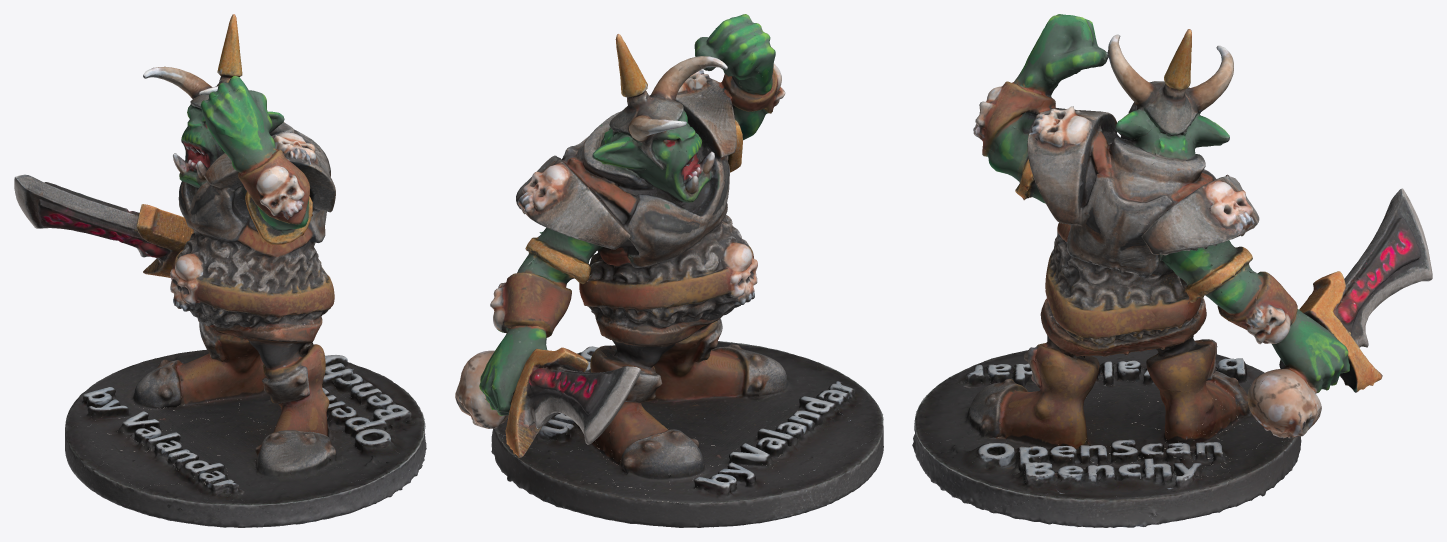
The model's file is head.glb.
3 renders of one model, left to right at view 1: azimuth 30°, elevation 25°; view 2: azimuth 150°, elevation 25°; view 3: azimuth 270°, elevation 25°, orthographic. The views are drawn at different scales.
Parts seen in each view (by area): view 1: Metashape to blender; view 2: Metashape to blender; view 3: Metashape to blender.
Part boxes in pixels (x1,y1,x2,y2): Metashape to blender: (14,14,426,527); Metashape to blender: (455,14,883,527); Metashape to blender: (912,14,1432,527).
Size of the model in its own units: 36.97 by 45.51 by 49.42.
1 material, 1 textured.
